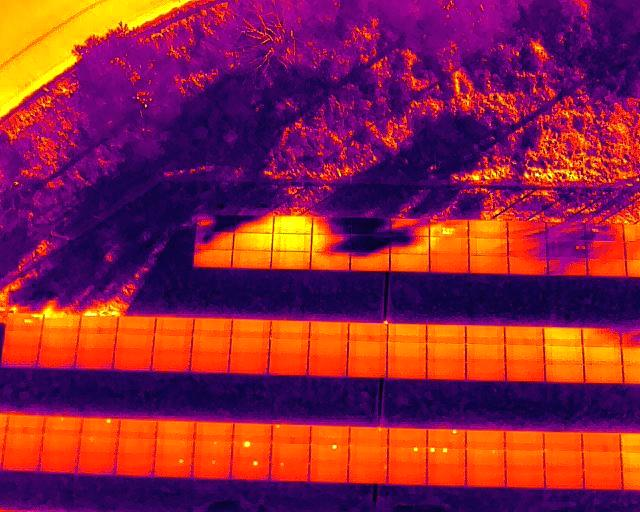Cell: (269, 458, 308, 481), (349, 461, 388, 484), (154, 457, 193, 477), (192, 458, 231, 478), (231, 458, 269, 478), (272, 424, 311, 442), (194, 441, 232, 458), (310, 443, 348, 460), (428, 429, 466, 446), (81, 418, 118, 435), (232, 441, 271, 457), (349, 427, 388, 443), (388, 446, 426, 462), (45, 418, 82, 434)
Cell-Multi: (427, 446, 466, 462), (6, 314, 42, 331)
No-Anomaly: (388, 462, 427, 484), (428, 463, 466, 485), (545, 468, 584, 489), (116, 454, 154, 475), (310, 461, 348, 482), (2, 450, 41, 470), (466, 466, 505, 486), (506, 466, 545, 486), (584, 469, 623, 489), (151, 352, 190, 372), (41, 451, 78, 472), (115, 349, 152, 370), (388, 359, 426, 379), (191, 352, 229, 372), (156, 421, 195, 440), (466, 361, 505, 380), (308, 357, 347, 376), (426, 325, 465, 344), (0, 348, 39, 367), (269, 357, 308, 376), (426, 360, 465, 379), (76, 349, 115, 368), (78, 452, 115, 472), (194, 249, 232, 268), (195, 421, 233, 440), (311, 252, 351, 270), (390, 254, 430, 272), (508, 257, 548, 275), (38, 348, 75, 367), (430, 254, 469, 272), (233, 233, 272, 251), (232, 251, 271, 269), (469, 255, 508, 273), (465, 430, 504, 448), (388, 428, 427, 446), (348, 359, 387, 377), (544, 329, 583, 347), (270, 321, 309, 339), (310, 322, 349, 340), (349, 324, 388, 342), (387, 324, 426, 342), (504, 327, 543, 345), (584, 364, 623, 382), (271, 252, 312, 269), (582, 433, 620, 451), (544, 432, 582, 450), (505, 431, 543, 449), (545, 346, 583, 364), (192, 337, 230, 355), (117, 317, 155, 335), (155, 318, 193, 336), (193, 319, 231, 337), (466, 326, 504, 344), (6, 415, 44, 433), (272, 217, 312, 234), (272, 234, 312, 251), (466, 449, 506, 466), (506, 363, 546, 380), (228, 355, 268, 372), (79, 316, 116, 334), (232, 319, 269, 337), (118, 419, 155, 437), (544, 451, 583, 468), (583, 452, 622, 469), (232, 423, 271, 440), (506, 345, 545, 362), (270, 340, 309, 357), (583, 347, 622, 364), (469, 221, 507, 238), (430, 237, 468, 254), (156, 441, 194, 458), (349, 443, 387, 460), (311, 426, 349, 443), (546, 364, 584, 381), (349, 342, 387, 359), (231, 338, 269, 355), (587, 260, 627, 276), (470, 238, 507, 255), (505, 450, 544, 466), (309, 341, 348, 357), (387, 343, 426, 359), (2, 332, 41, 348), (427, 343, 466, 359), (4, 434, 43, 450), (80, 436, 118, 452), (42, 435, 80, 451), (466, 345, 505, 360), (153, 336, 192, 351), (41, 332, 77, 348), (118, 438, 156, 453), (271, 443, 309, 457), (78, 334, 115, 348), (116, 335, 153, 349)
Shadowing: (547, 239, 586, 259), (507, 238, 547, 256), (311, 234, 351, 252), (390, 236, 430, 254), (581, 328, 621, 346), (586, 241, 625, 259), (196, 213, 236, 230), (352, 218, 391, 235), (586, 223, 625, 240), (194, 232, 233, 249), (351, 253, 390, 270), (548, 258, 587, 275), (236, 216, 274, 233), (391, 219, 429, 236), (352, 235, 390, 252), (312, 218, 351, 234), (546, 223, 585, 239), (508, 222, 547, 237)
Unclassified: (430, 220, 468, 237), (43, 315, 79, 332)
